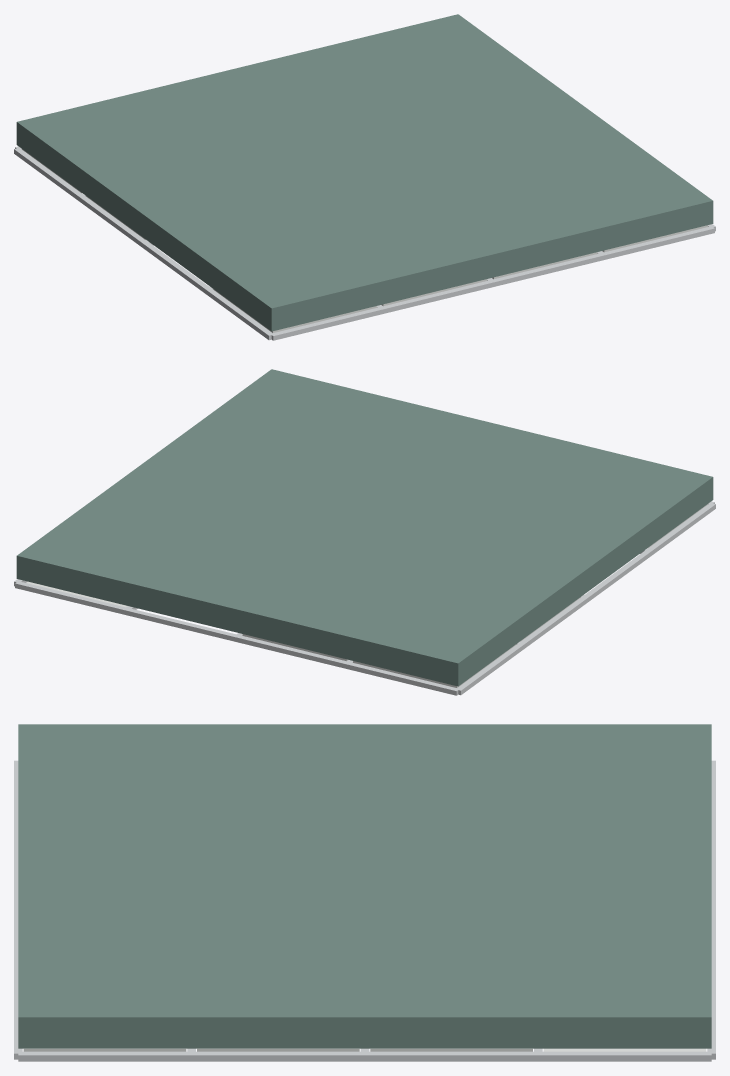
Rendered from ceil_hs_light.glb.
The picture shows the model from 3 angles, top to bottom: view 1: azimuth 30°, elevation 25°; view 2: azimuth 150°, elevation 25°; view 3: azimuth 270°, elevation 25°; orthographic projection. The views are drawn at different scales.
Visible parts, largest first — view 1: ceil_hs_light; view 2: ceil_hs_light; view 3: ceil_hs_light.
Boxes of the visible parts, x1,y1,x2,y2 form: ceil_hs_light: (14, 14, 715, 340); ceil_hs_light: (14, 369, 715, 695); ceil_hs_light: (14, 724, 715, 1061).
Bounding box in the file's own units: 4.05 × 0.295 × 4.05.
